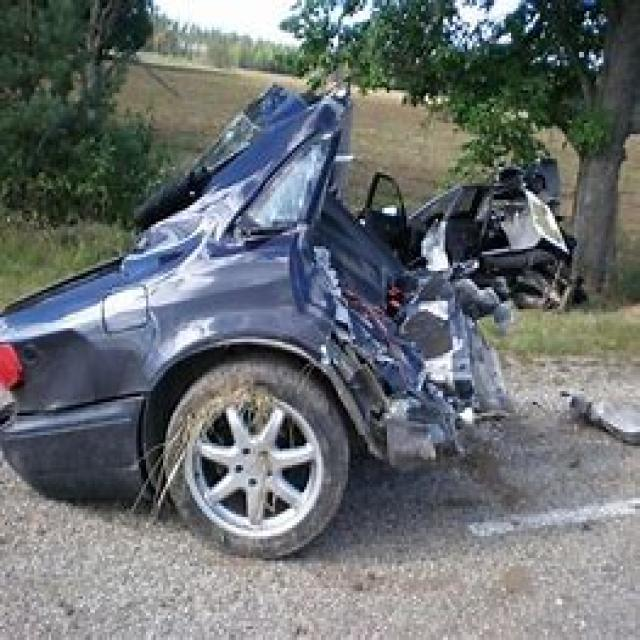Accident: (78, 59, 640, 457)
